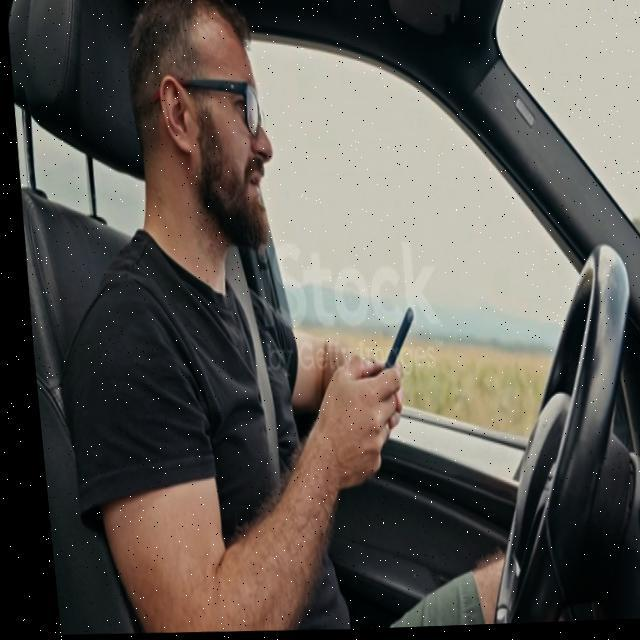PhoneCall: (368, 310, 412, 386)
